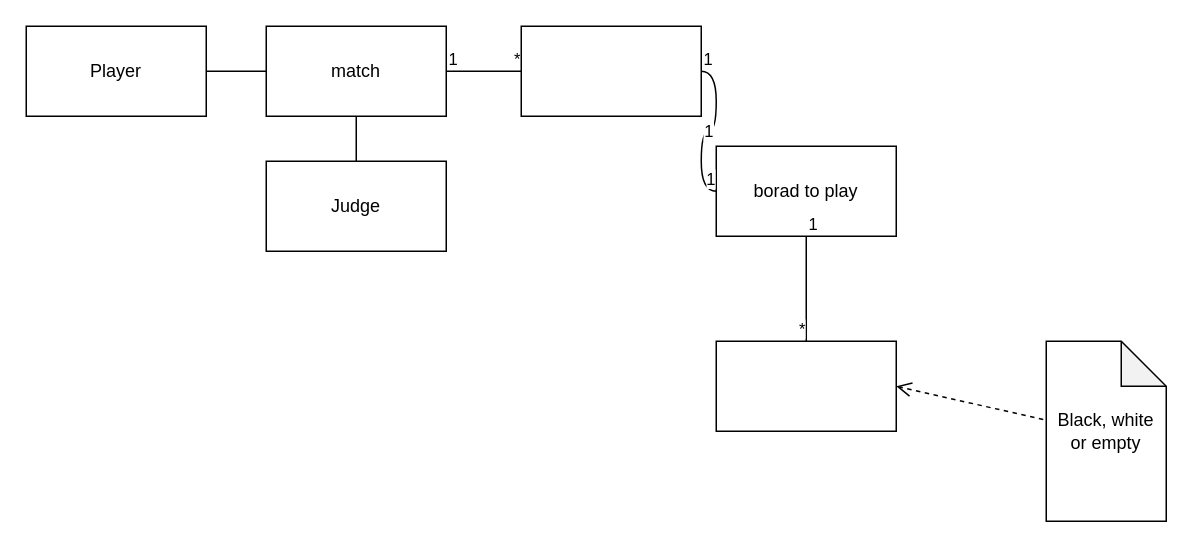
Image size: 1193x548. Some labels were removed from this diagram. Each missing label, with the centre of its shape:
stone: the point at 805,385
Turn: the point at 610,70
